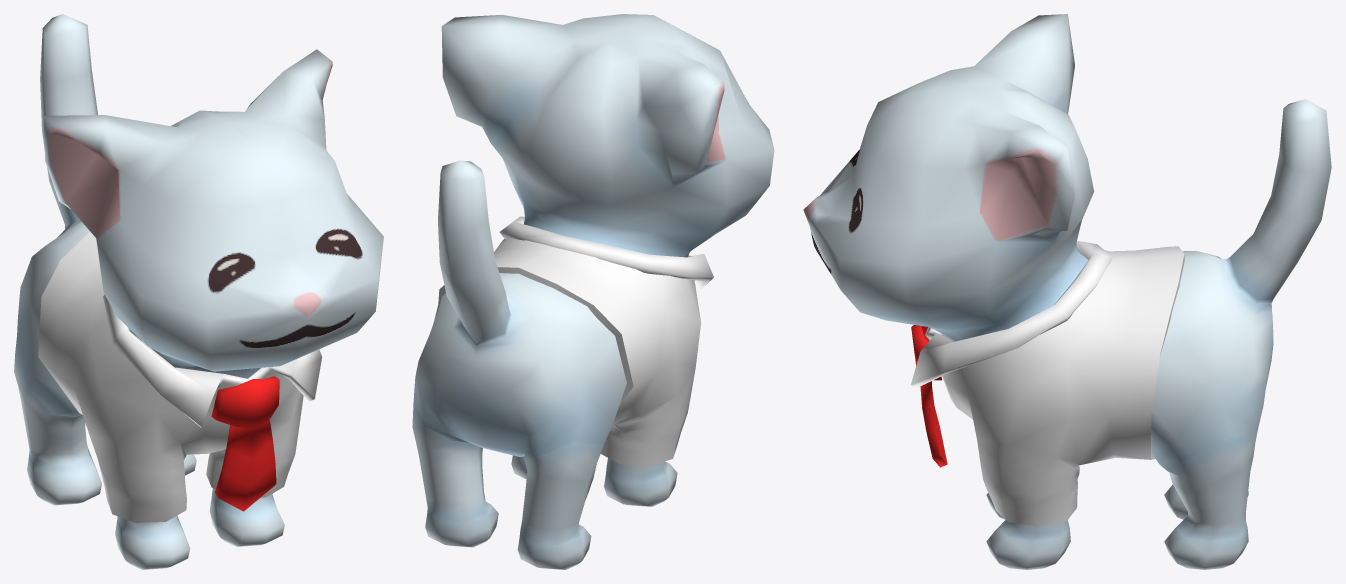
File: Dean Cat05.fbx
3 views of the same model, side by side, from view 1: azimuth 30°, elevation 25°; view 2: azimuth 150°, elevation 25°; view 3: azimuth 270°, elevation 25° (orthographic). The views are drawn at different scales.
Parts seen in each view (by area): view 1: Cat_Base004, Dean_Cat_Shirt; view 2: Cat_Base004, Dean_Cat_Shirt; view 3: Cat_Base004, Dean_Cat_Shirt.
Boxes of the visible parts, x1,y1,x2,y2 form: Cat_Base004: (14,14,383,569); Dean_Cat_Shirt: (38,231,321,522); Cat_Base004: (412,14,774,569); Dean_Cat_Shirt: (438,216,713,467); Cat_Base004: (803,14,1331,569); Dean_Cat_Shirt: (910,240,1184,525).
Size of the model in its own units: 1.75 by 2.83 by 2.68.
3 materials, 1 textured.
